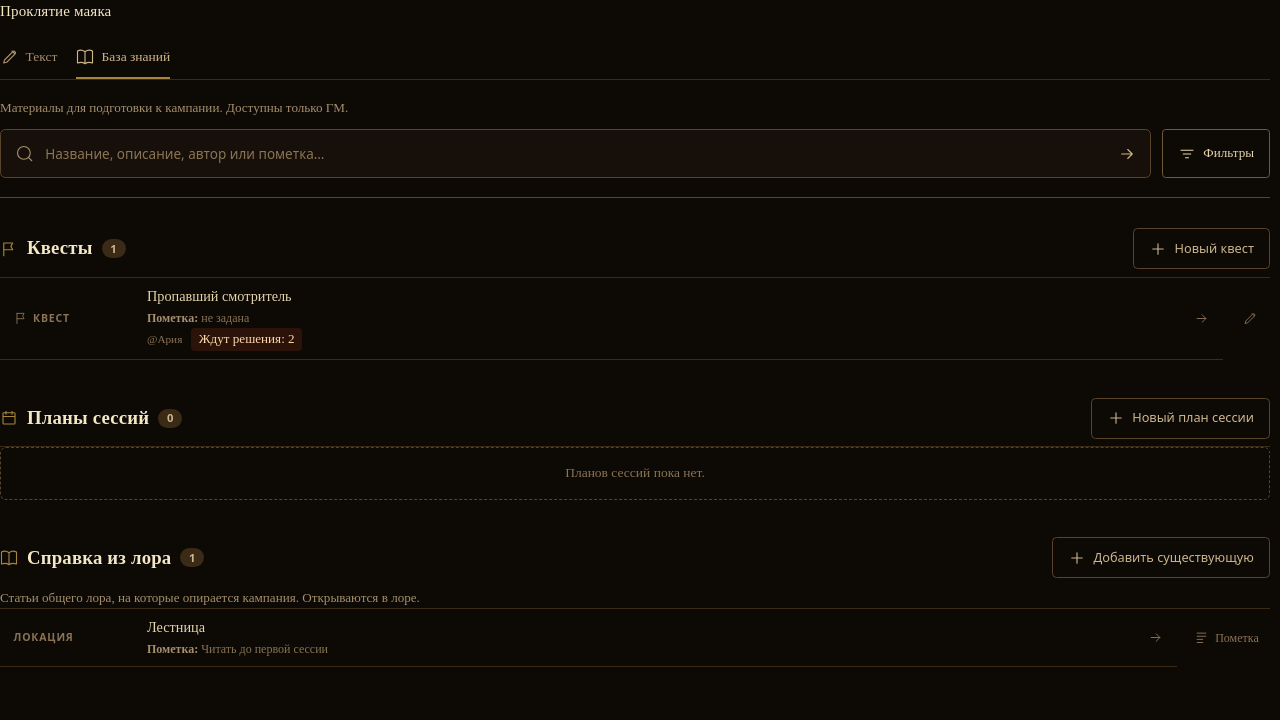
Scenario: public campaign knowledge base › distinguishes lore notes from editing a material and updates only the knowledge link
Expected: the link named "Редактировать: Пропавший смотритель" is shown, [1242, 311, 1257, 326]
Click the button with aria-label "Изменить пометку: Лестница". click: [1226, 638]
box: [1183, 609, 1270, 667]
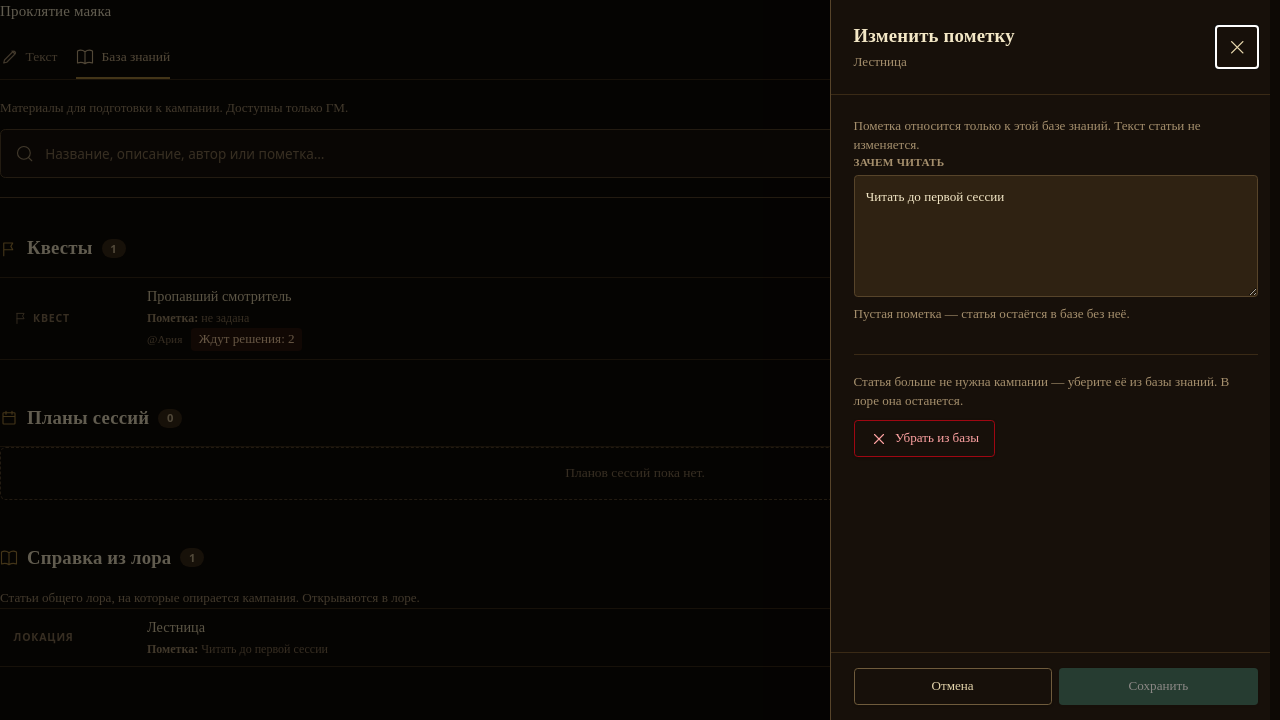
Result: the text "Текст статьи не изменяется" is shown at [854, 118, 1200, 152]
Result: the text box labelled "Зачем читать" holds "Читать до первой сессии"
Replace the text in the text box labelled "Зачем читать" with "Подготовить карту". click: [1056, 236]
box: [854, 175, 1258, 297]
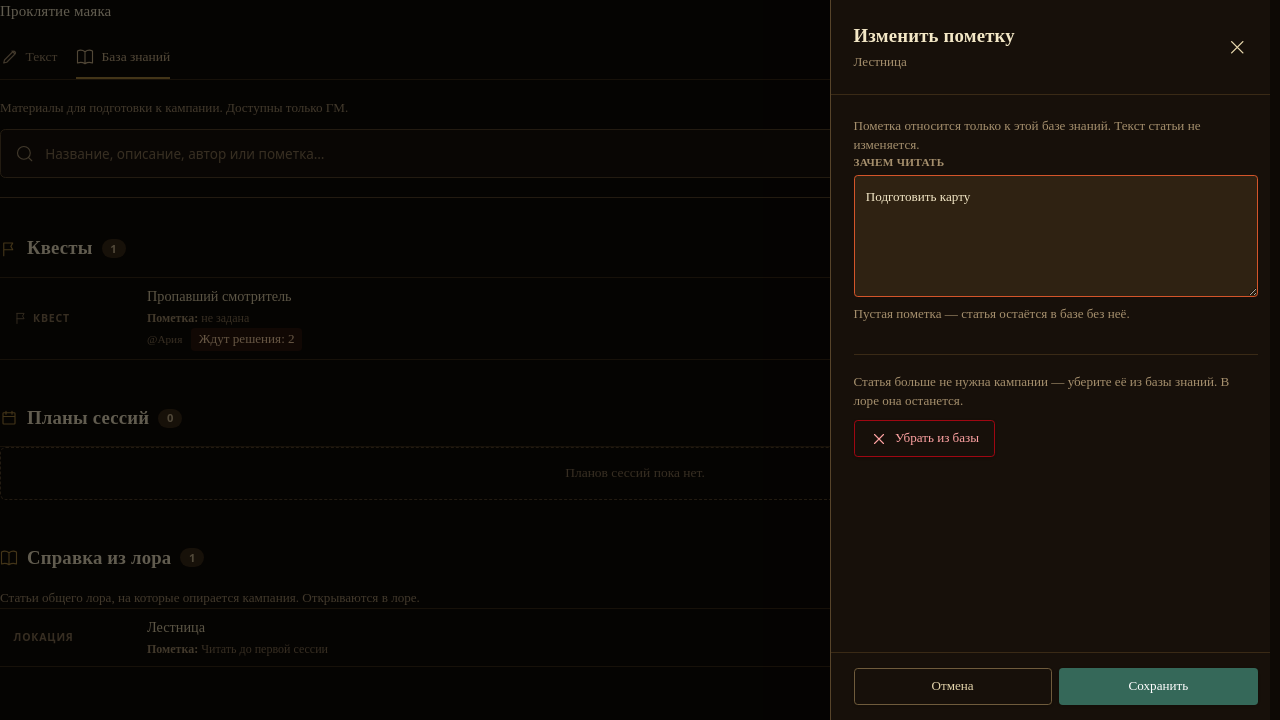
Click the button "Сохранить". click: [1158, 686]
box: [1059, 668, 1258, 705]
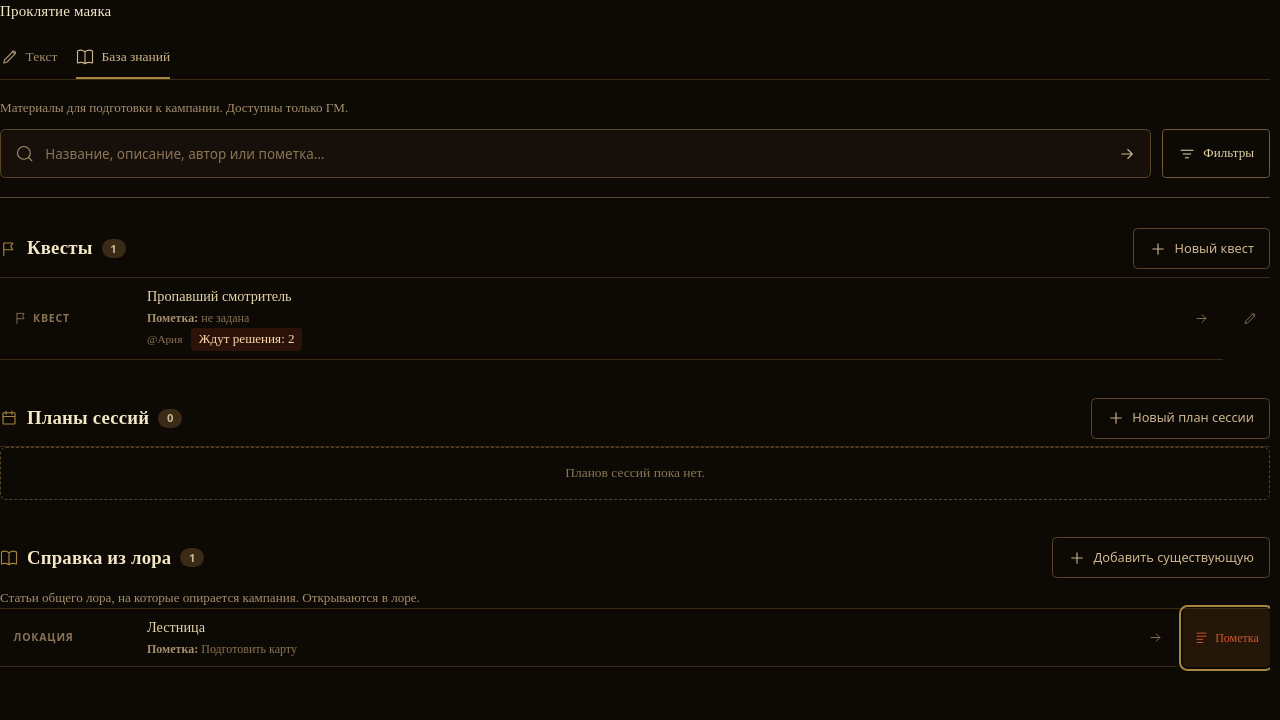
Result: the dialog is gone
Result: the text "Подготовить карту" is shown at [201, 642, 297, 656]
